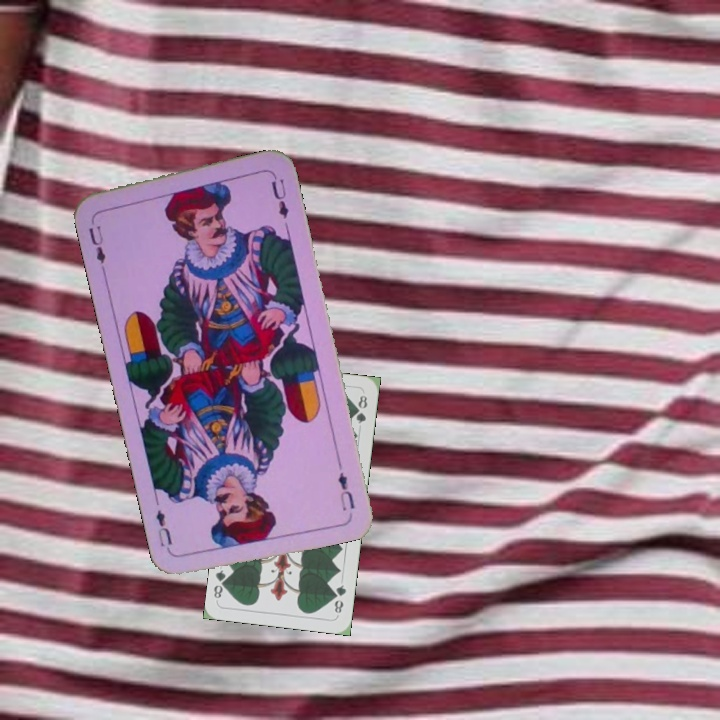EU: (84, 214, 108, 273), (333, 468, 357, 514)
G8: (330, 581, 349, 618)
